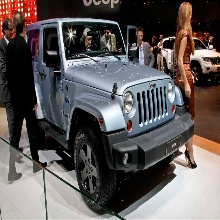no damage: (22, 17, 195, 214)
